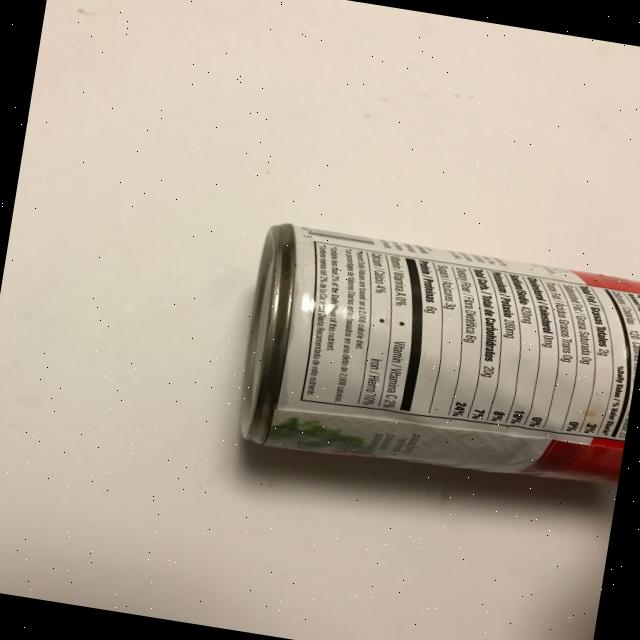metal: (230, 218, 640, 502)
